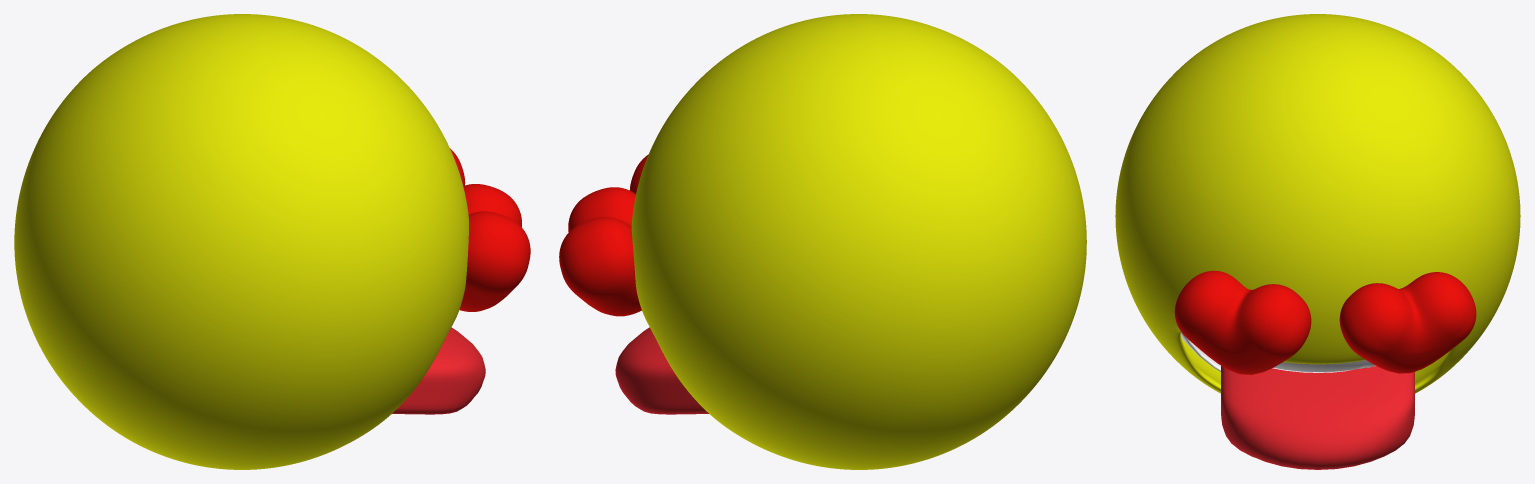
File: blush_emoji.glb
3 renders of one model, left to right at view 1: azimuth 30°, elevation 25°; view 2: azimuth 150°, elevation 25°; view 3: azimuth 270°, elevation 25°, orthographic. The views are drawn at different scales.
Parts seen in each view (by area): view 1: badan, mata kiri, lidah; view 2: badan, mata kanan, lidah; view 3: badan, lidah, mata kiri, mata kanan, mulut.
Part boxes in pixels (left/top/right/bottom): badan: left=14, top=14, right=468, bottom=469; mata kiri: left=459, top=184, right=530, bottom=311; lidah: left=392, top=327, right=485, bottom=414; badan: left=631, top=14, right=1086, bottom=469; mata kanan: left=559, top=187, right=641, bottom=316; lidah: left=615, top=327, right=708, bottom=414; badan: left=1115, top=14, right=1520, bottom=393; lidah: left=1221, top=366, right=1414, bottom=469; mata kiri: left=1174, top=270, right=1311, bottom=374; mata kanan: left=1339, top=272, right=1476, bottom=373; mulut: left=1180, top=332, right=1416, bottom=372.
Bounding box in the file's own units: 2.36 × 2.08 × 2.08.
